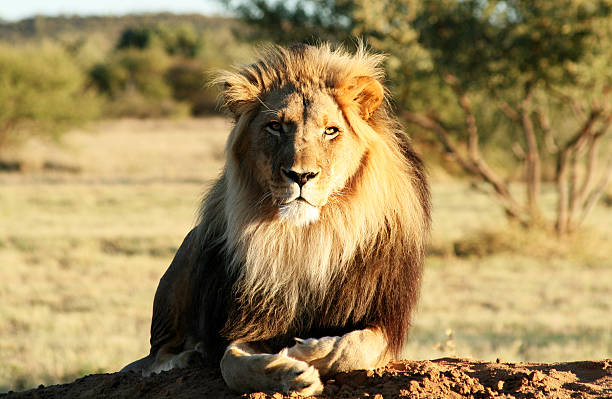lion: (178, 33, 432, 356)
